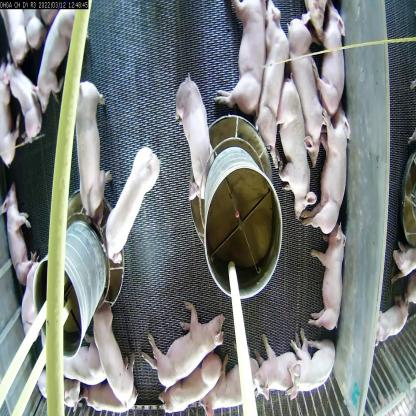Pig: (143, 294, 229, 391), (104, 138, 164, 265), (304, 86, 351, 244), (284, 7, 327, 165), (278, 66, 319, 215), (34, 13, 88, 122), (307, 214, 353, 341), (77, 76, 115, 225), (85, 296, 135, 405), (260, 0, 294, 159), (175, 79, 212, 219), (222, 0, 265, 115), (286, 330, 347, 409), (160, 353, 224, 416), (314, 1, 348, 118), (75, 362, 136, 415), (206, 368, 273, 415), (3, 59, 40, 143), (250, 335, 298, 397), (1, 184, 31, 274), (55, 337, 103, 386), (12, 259, 43, 331)
